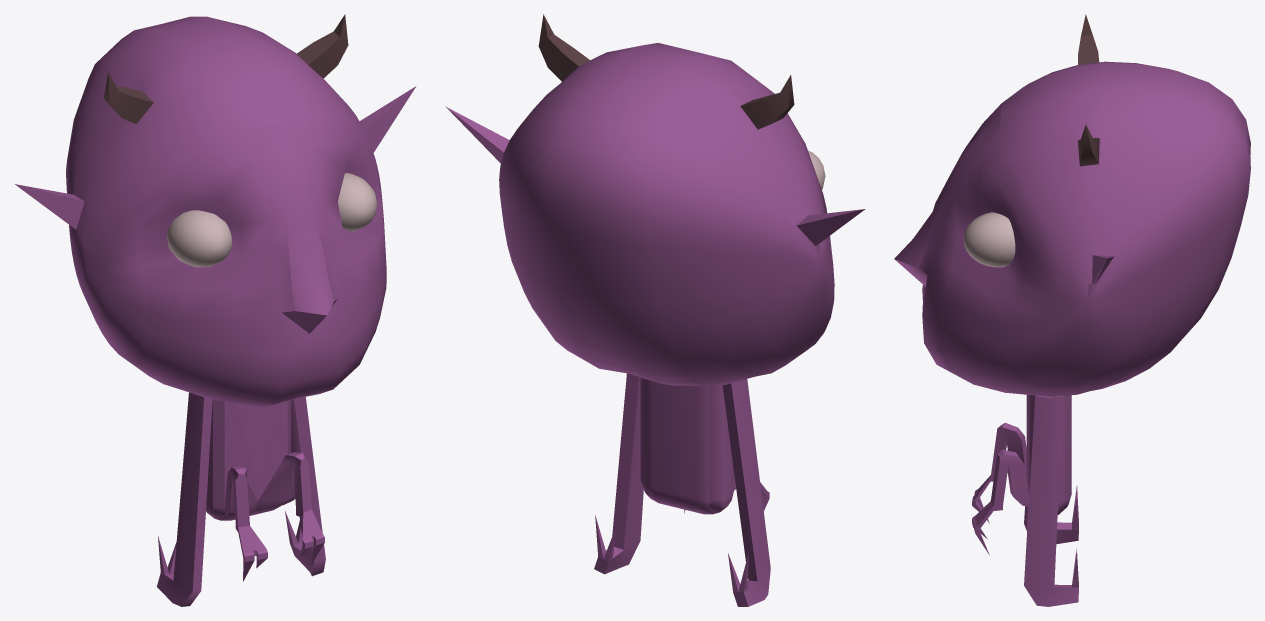
Rendered from Wallace_base.fbx.
3 renders of one model, left to right at view 1: azimuth 30°, elevation 25°; view 2: azimuth 150°, elevation 25°; view 3: azimuth 270°, elevation 25°, orthographic. The views are drawn at different scales.
Parts seen in each view (by area): view 1: Wallace; view 2: Wallace; view 3: Wallace.
Part boxes in pixels (x1,y1,x2,y2): Wallace: [15, 14, 416, 606]; Wallace: [445, 14, 865, 606]; Wallace: [894, 14, 1250, 606].
Size of the model in its own units: 37.1 by 46.73 by 29.88.
